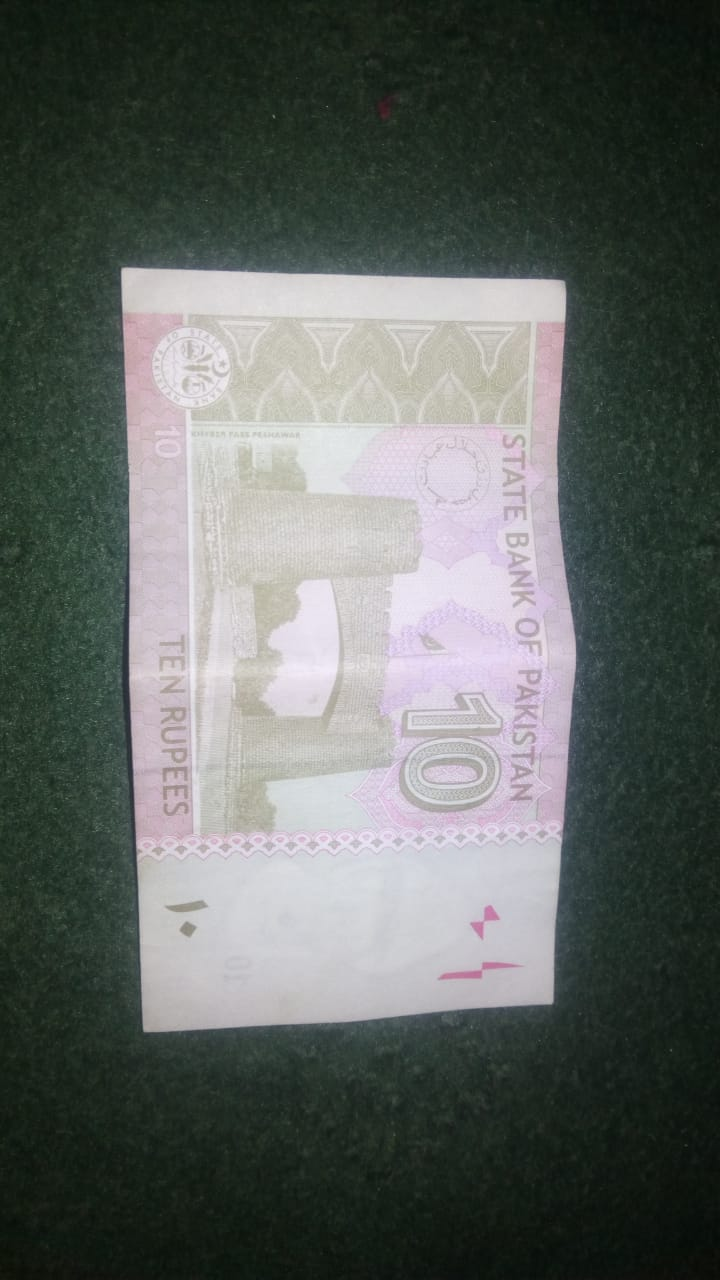10 rupee: (123, 267, 572, 1032)
